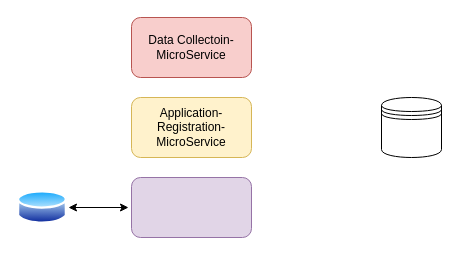
Image size: 459x255. Some labels were removed from this diagram. The centre of each missing label's shape, as x and y in pixels:
MySQL: the point at 411,127
SSA-Web-Service: the point at 191,207
